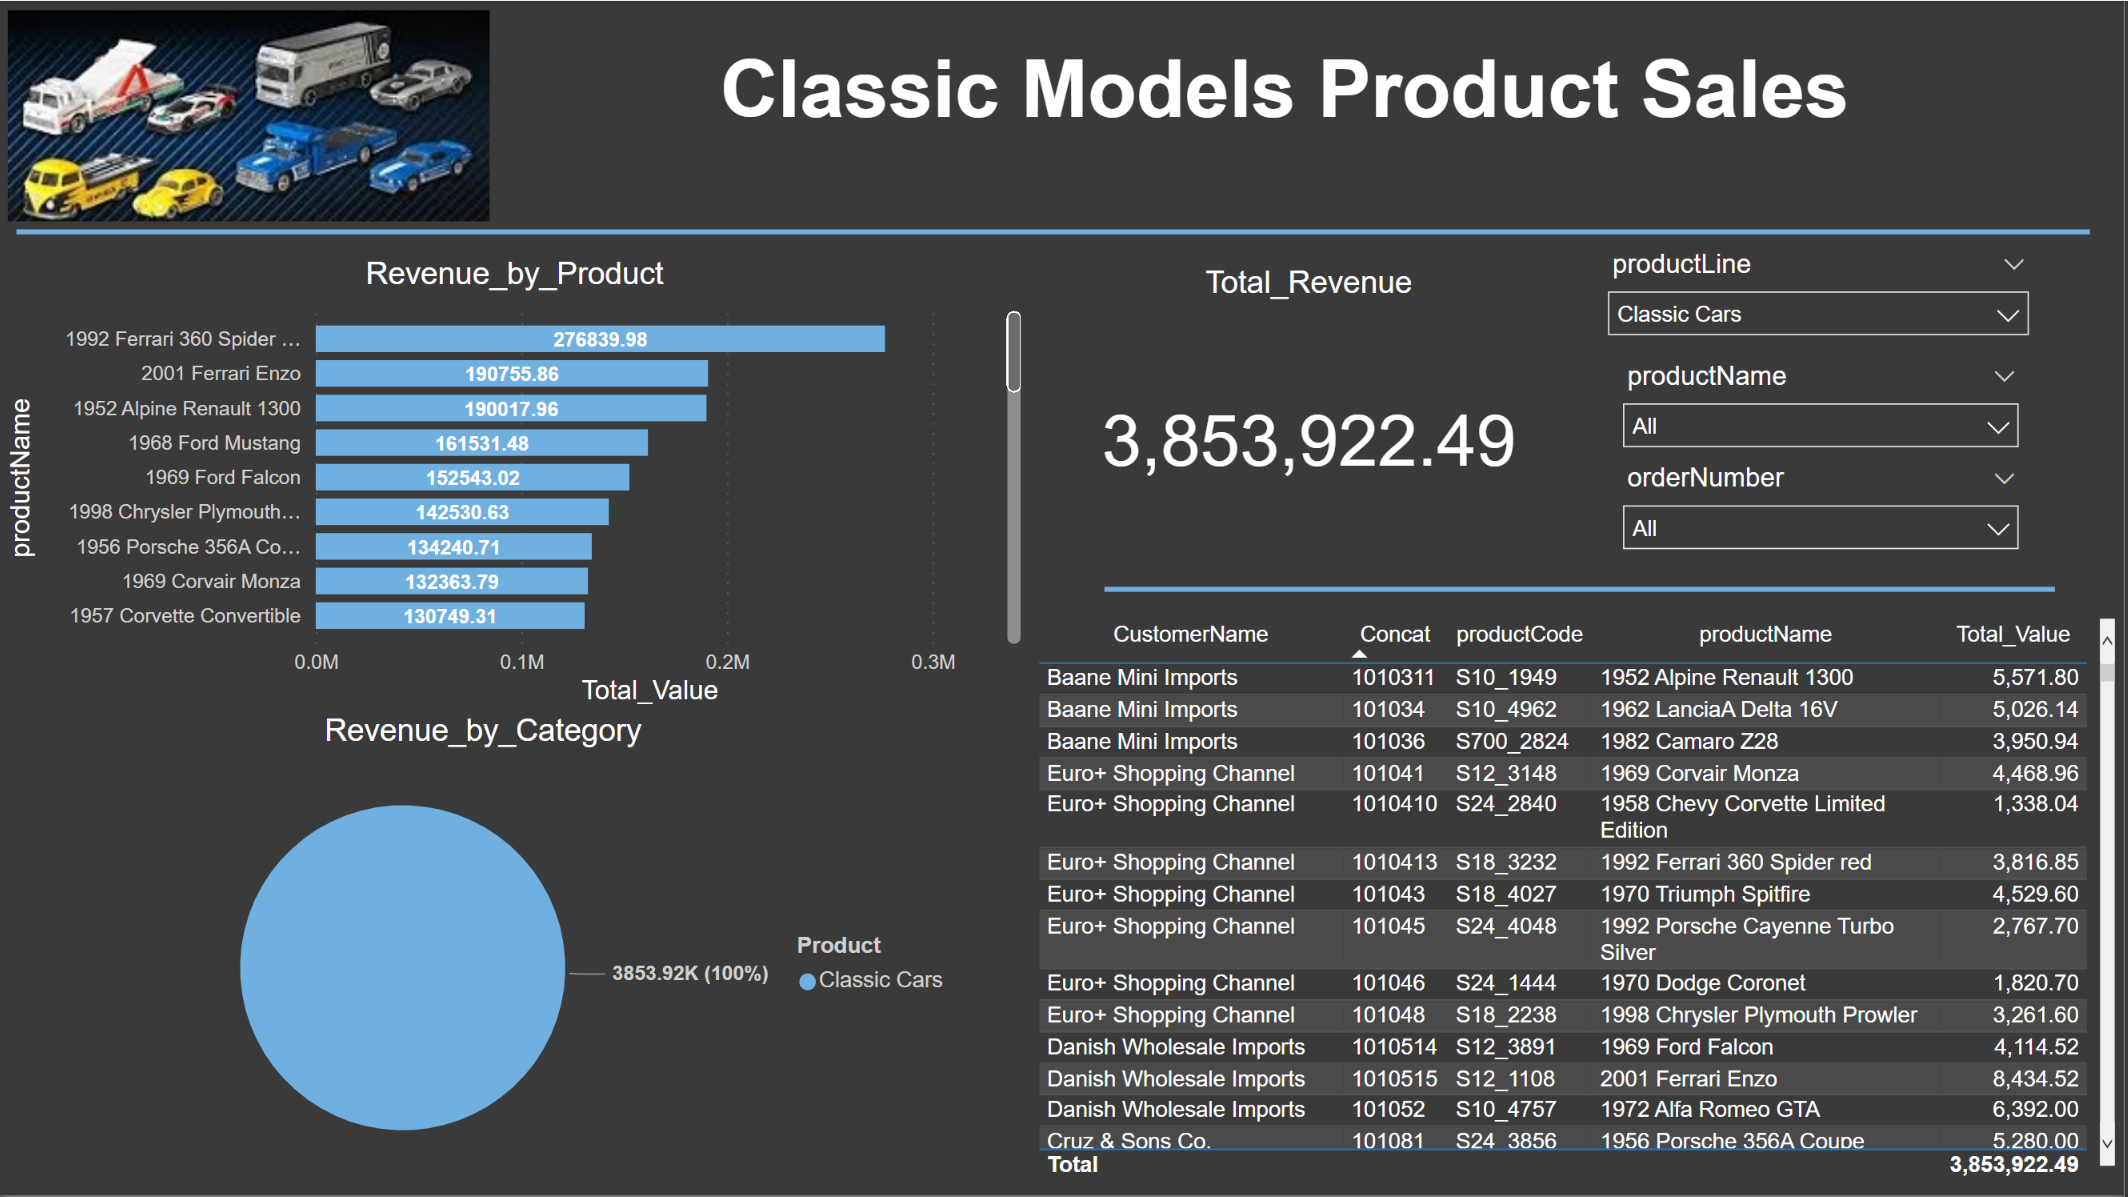

The page's visual inventory and layout, read from the dashboard file:
{"tool":"powerbi","page":{"name":"Scenario2","canvas":[1280,720],"ordinal":1},"visuals":[{"type":"textbox","box":[300.4,20.9,948.2,88.3],"z":0},{"type":"image","box":[0,0,300.4,137.4],"z":1000},{"type":"basicShape","box":[0,125,1269.5,28.8],"z":2000},{"type":"basicShape","box":[655.7,318,592.9,72.6],"z":3000},{"type":"clusteredBarChart","title":"Revenue_by_Product","fields":{"Category":["Order_Details.productName"],"Y":["Sum(Order_Details.Total_Value)"]},"box":[0,153.8,620.4,275.5],"z":4000},{"type":"pieChart","title":"Revenue_by_Category","fields":{"Y":["Sum(Order_Details.Total_Value)"],"Category":["Order_Details.productLine"]},"box":[0,429.3,582.4,286.6],"z":5000},{"type":"slicer","fields":{"Values":["Products.productLine"]},"box":[958.7,144.6,274.2,58.9],"z":6000},{"type":"slicer","fields":{"Values":["Products.productName"]},"box":[967.9,212,259.1,66.7],"z":7000},{"type":"tableEx","fields":{"Values":["Order_Details.CustomerName","Order_Details.Concat","Order_Details.productCode","Order_Details.productName","Sum(Order_Details.Total_Value)"]},"box":[620.4,367.8,659.6,348.1],"z":8000},{"type":"card","title":"Total_Revenue","fields":{"Values":["Sum(Order_Details.Total_Value)"]},"box":[644.6,159,287.9,186.5],"z":9000},{"type":"slicer","fields":{"Values":["Order_Details.orderNumber"]},"box":[967.9,273.5,259.1,59.6],"z":10000}]}

Visuals, with their boxes in screenshot pixels (x1, y1, x2, y2), scaled from the page's 1280x720 canvas onto the 2128x1197 screenshot:
textbox: (left=499, top=35, right=2076, bottom=182)
image: (left=0, top=0, right=499, bottom=228)
basicShape: (left=0, top=208, right=2111, bottom=256)
basicShape: (left=1090, top=529, right=2076, bottom=649)
"Revenue_by_Product" clusteredBarChart: (left=0, top=256, right=1031, bottom=714)
"Revenue_by_Category" pieChart: (left=0, top=714, right=968, bottom=1190)
slicer - Products.productLine: (left=1594, top=240, right=2050, bottom=338)
slicer - Products.productName: (left=1609, top=352, right=2040, bottom=463)
tableEx - Order_Details.CustomerName x Order_Details.Concat: (left=1031, top=611, right=2127, bottom=1190)
"Total_Revenue" card: (left=1072, top=264, right=1550, bottom=574)
slicer - Order_Details.orderNumber: (left=1609, top=455, right=2040, bottom=554)
